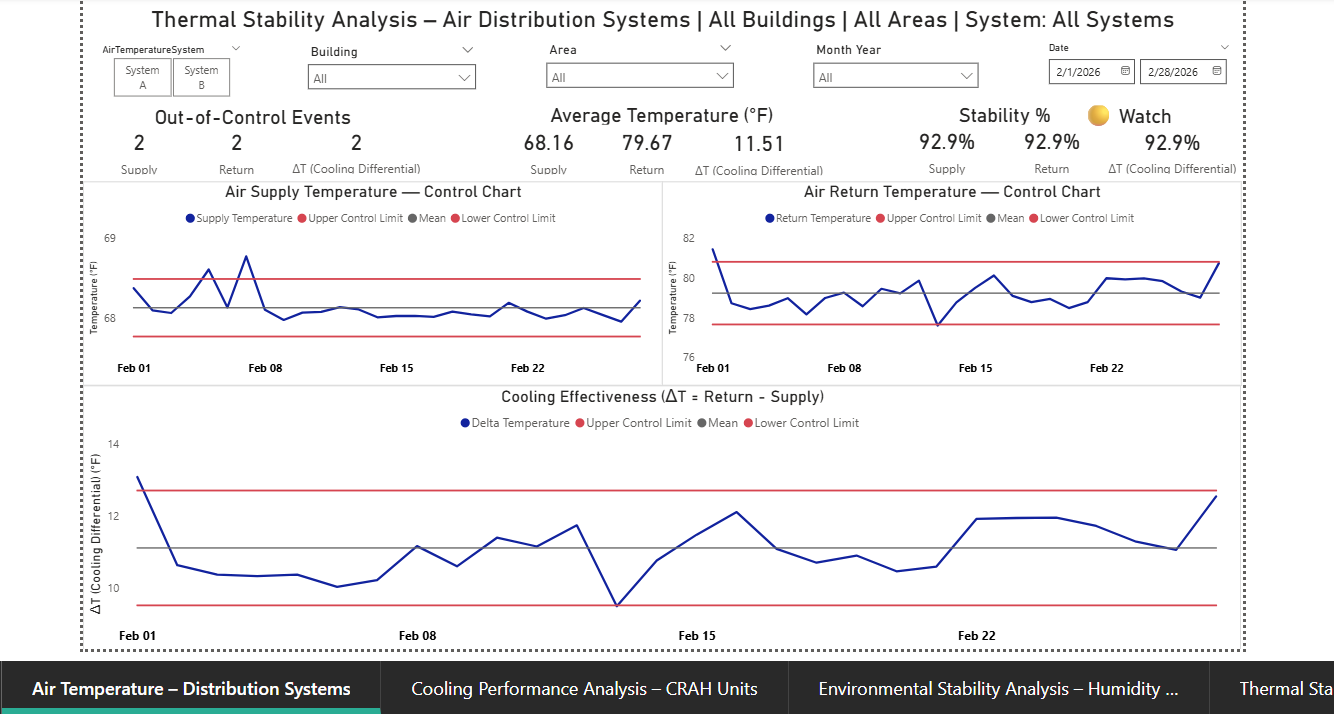

What the dashboard file says about the page in this screenshot:
{"tool":"powerbi","page":{"name":"Air Temperature – Distribution Systems","canvas":[1280,720],"ordinal":0},"visuals":[{"type":"slicer","fields":{"Values":["DimTag.AirTemperatureSystem"]},"box":[8.3,45.6,178.3,70.5],"z":0},{"type":"slicer","fields":{"Values":["Facts.Building"]},"box":[238.4,45.6,205.3,68.4],"z":1000},{"type":"slicer","fields":{"Values":["Facts.Area"]},"box":[501.7,45,226.7,70],"z":2000},{"type":"slicer","fields":{"Values":["DimDateTime.Date"]},"box":[1053.3,44.3,225,70],"z":3000},{"type":"lineChart","title":"Air Supply Temperature — Control Chart","fields":{"Y":["_Measures.Supply_Temp_SelectedStat","_Measures.UCL_Supply","_Measures.CL_Supply","_Measures.LCL_Supply"],"Category":["DimDateTime.Date"]},"box":[0,203.3,640,225],"z":4000},{"type":"lineChart","title":"Air Return Temperature — Control Chart","fields":{"Category":["DimDateTime.Date"],"Y":["_Measures.Return_Temp_SelectedStat","_Measures.UCL_Return","_Measures.CL_Return","_Measures.LCL_Return"]},"box":[640,203.3,640,225],"z":5000},{"type":"card","fields":{"Values":["_Measures.OutOfControl_Count_Supply"]},"box":[6.9,135.8,110,65],"z":6000},{"type":"card","fields":{"Values":["_Measures.OutOfControl_Count_Return"]},"box":[113.6,135.8,110,65],"z":7000},{"type":"card","fields":{"Values":["_Measures.OutOfControl_Count_Delta"]},"box":[220.2,135.5,162.3,64.6],"z":8000},{"type":"card","fields":{"Values":["_Measures.Avg Supply Temp"]},"box":[463.8,135.9,100,65],"z":9000},{"type":"card","fields":{"Values":["_Measures.Avg Return Temp"]},"box":[563.8,135.9,118.3,65],"z":10000},{"type":"card","fields":{"Values":["_Measures.Avg Delta Temp"]},"box":[669.2,136.7,154.1,64.6],"z":11000},{"type":"lineChart","title":"Cooling Effectiveness (ΔT = Return − Supply)","fields":{"Category":["DimDateTime.Date"],"Y":["_Measures.Delta_T_SelectedStat","_Measures.UCL_Delta","_Measures.CL_Delta","_Measures.LCL_Delta"]},"box":[0,428.3,1278.3,296.7],"z":12000},{"type":"slicer","fields":{"Values":["DimDateTime.Month Year"]},"box":[796.7,45,201.7,70],"z":13000},{"type":"card","fields":{"Values":["_Measures.Pct_In_Control_Supply"]},"box":[896.5,134.1,115,66.7],"z":14000},{"type":"card","fields":{"Values":["_Measures.Pct_In_Control_Delta"]},"box":[1126.4,135.8,152.4,64.6],"z":15000},{"type":"card","fields":{"Values":["_Measures.Pct_In_Control_Return"]},"box":[1011.5,134.1,115,66.7],"z":16000},{"type":"card","fields":{"Values":["_Measures.Dynamic_Title"]},"box":[0,0,1280,46.7],"z":17000},{"type":"card","fields":{"Values":["_Measures.DOOC"]},"box":[72.9,116,228.6,31.5],"z":18000},{"type":"card","fields":{"Values":["_Measures.Avg Temp"]},"box":[501.9,114.3,273.3,31.5],"z":19000},{"type":"card","fields":{"Values":["_Measures.Stability"]},"box":[954.3,114.4,126.7,31.7],"z":20000},{"type":"card","fields":{"Values":["_Measures.System_Status"]},"box":[1069.3,114.4,166.7,33.3],"z":21000}]}

Visuals, with their boxes on the page's 1280x720 design canvas (x1, y1, x2, y2). These are canvas units, not pixel positions in the 1334x714 screenshot, which may show the page scaled, cropped or inside an application window:
slicer - DimTag.AirTemperatureSystem: [x1=8, y1=46, x2=187, y2=116]
slicer - Facts.Building: [x1=238, y1=46, x2=444, y2=114]
slicer - Facts.Area: [x1=502, y1=45, x2=728, y2=115]
slicer - DimDateTime.Date: [x1=1053, y1=44, x2=1278, y2=114]
"Air Supply Temperature — Control Chart" lineChart: [x1=0, y1=203, x2=640, y2=428]
"Air Return Temperature — Control Chart" lineChart: [x1=640, y1=203, x2=1280, y2=428]
card - _Measures.OutOfControl_Count_Supply: [x1=7, y1=136, x2=117, y2=201]
card - _Measures.OutOfControl_Count_Return: [x1=114, y1=136, x2=224, y2=201]
card - _Measures.OutOfControl_Count_Delta: [x1=220, y1=136, x2=382, y2=200]
card - _Measures.Avg Supply Temp: [x1=464, y1=136, x2=564, y2=201]
card - _Measures.Avg Return Temp: [x1=564, y1=136, x2=682, y2=201]
card - _Measures.Avg Delta Temp: [x1=669, y1=137, x2=823, y2=201]
"Cooling Effectiveness (ΔT = Return − Supply)" lineChart: [x1=0, y1=428, x2=1278, y2=725]
slicer - DimDateTime.Month Year: [x1=797, y1=45, x2=998, y2=115]
card - _Measures.Pct_In_Control_Supply: [x1=896, y1=134, x2=1012, y2=201]
card - _Measures.Pct_In_Control_Delta: [x1=1126, y1=136, x2=1279, y2=200]
card - _Measures.Pct_In_Control_Return: [x1=1012, y1=134, x2=1126, y2=201]
card - _Measures.Dynamic_Title: [x1=0, y1=0, x2=1280, y2=47]
card - _Measures.DOOC: [x1=73, y1=116, x2=302, y2=148]
card - _Measures.Avg Temp: [x1=502, y1=114, x2=775, y2=146]
card - _Measures.Stability: [x1=954, y1=114, x2=1081, y2=146]
card - _Measures.System_Status: [x1=1069, y1=114, x2=1236, y2=148]
